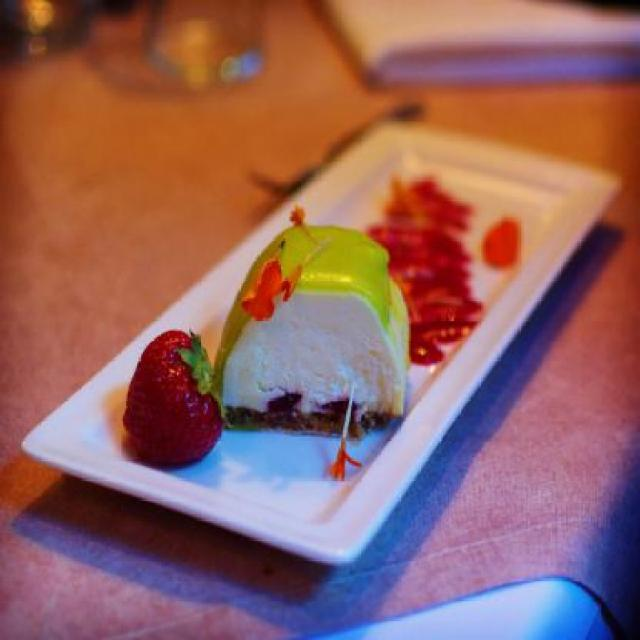Strawberry: (119, 326, 218, 472)
